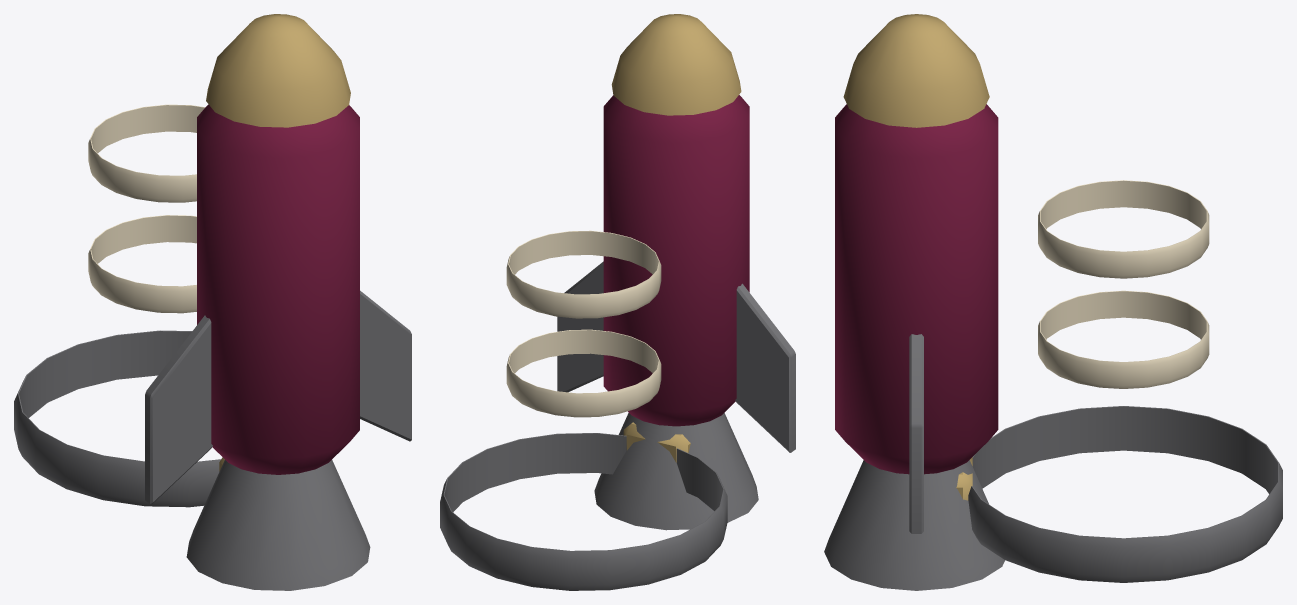
Rendered from Kit_Active_Booster.glb.
3 views of the same model, side by side, from view 1: azimuth 30°, elevation 25°; view 2: azimuth 150°, elevation 25°; view 3: azimuth 270°, elevation 25° (orthographic). The views are drawn at different scales.
Visible parts, largest first — view 1: Kit_Active_Booster; view 2: Kit_Active_Booster; view 3: Kit_Active_Booster.
Boxes of the visible parts, x1=… form: Kit_Active_Booster: x1=14, y1=14, x2=411, y2=590; Kit_Active_Booster: x1=440, y1=14, x2=795, y2=590; Kit_Active_Booster: x1=824, y1=14, x2=1282, y2=590.
Bounding box in the file's own units: 0.132 × 0.242 × 0.1883.
